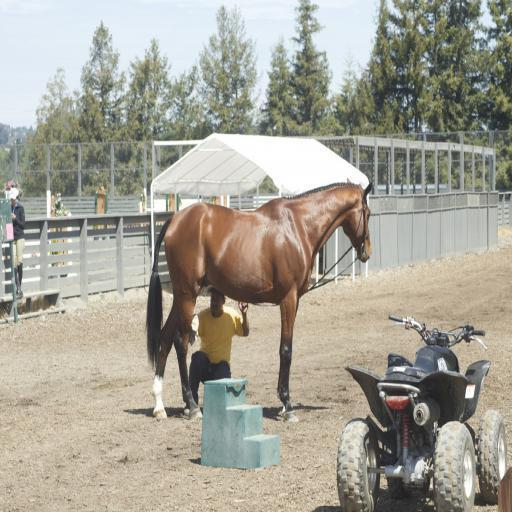horse: (144, 178, 374, 422)
